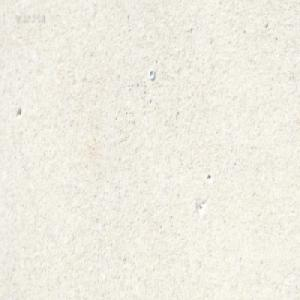Washer: (148, 68, 155, 80)
